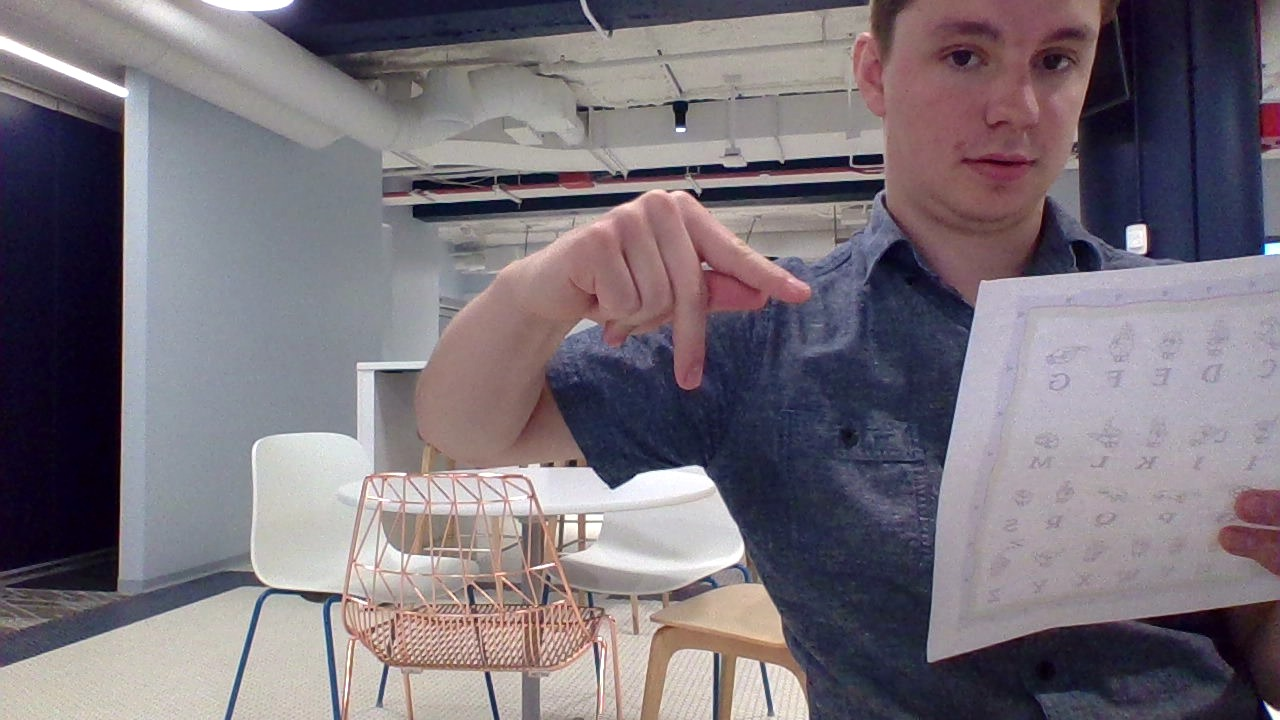p: (514, 157, 825, 419)
